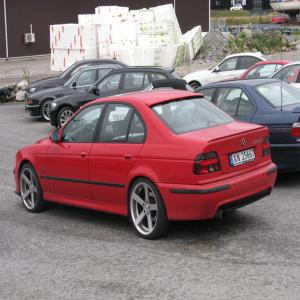Vehicle-registration-plate: (229, 149, 254, 168)
